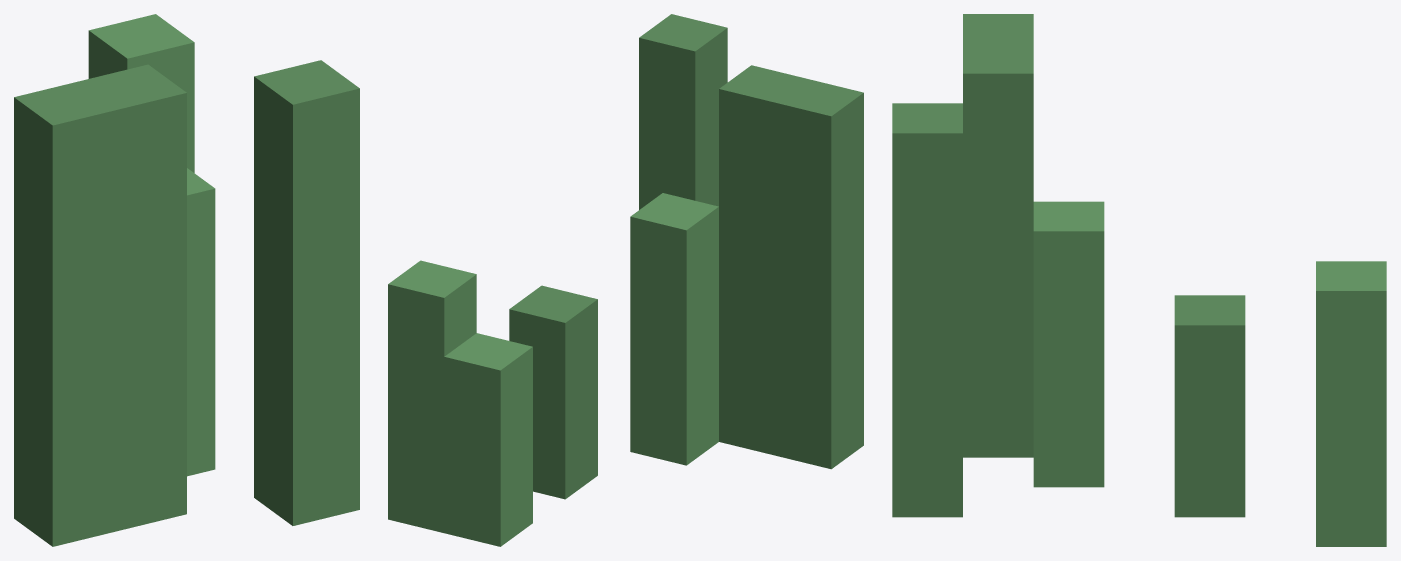
Rendered from helecho_04.glb.
3 views of the same model, side by side, from view 1: azimuth 30°, elevation 25°; view 2: azimuth 150°, elevation 25°; view 3: azimuth 270°, elevation 25° (orthographic). The views are drawn at different scales.
Parts seen in each view (by area): view 1: helecho_04; view 2: helecho_04; view 3: helecho_04.
Part boxes in pixels (left/top/right/bottom): helecho_04: left=14, top=14, right=359, bottom=546; helecho_04: left=388, top=14, right=863, bottom=546; helecho_04: left=892, top=14, right=1386, bottom=546.
Size of the model in its own units: 0.5 by 0.6 by 0.7.
